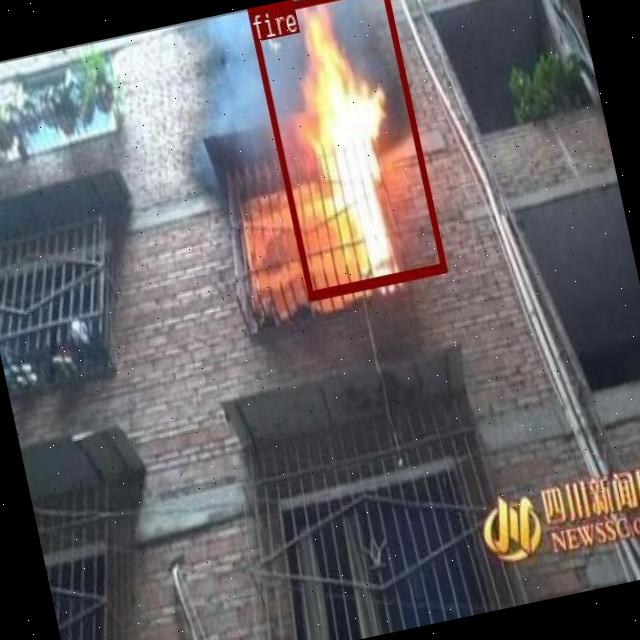fire: (247, 0, 445, 298)
